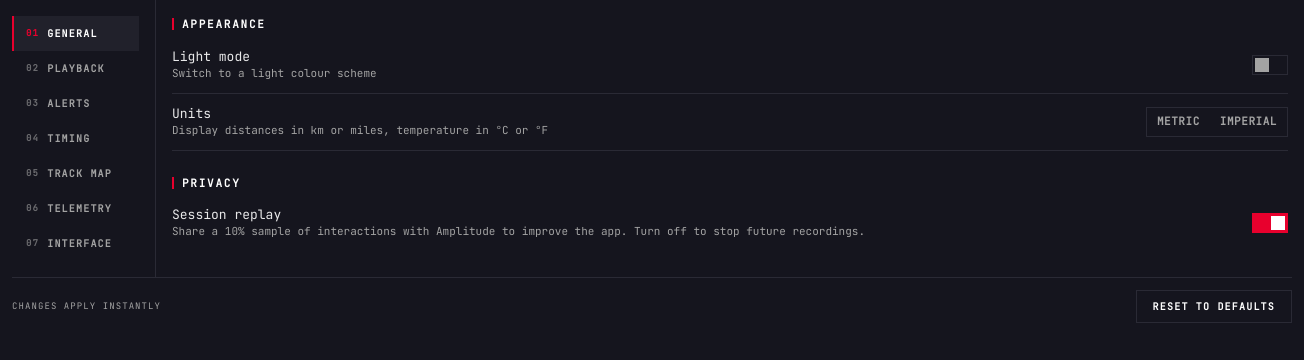
Test case: SettingsControls › keeps telemetry chart settings in their own category
Click the tab "04 Timing" at point(76, 138), box [12,121,139,156]
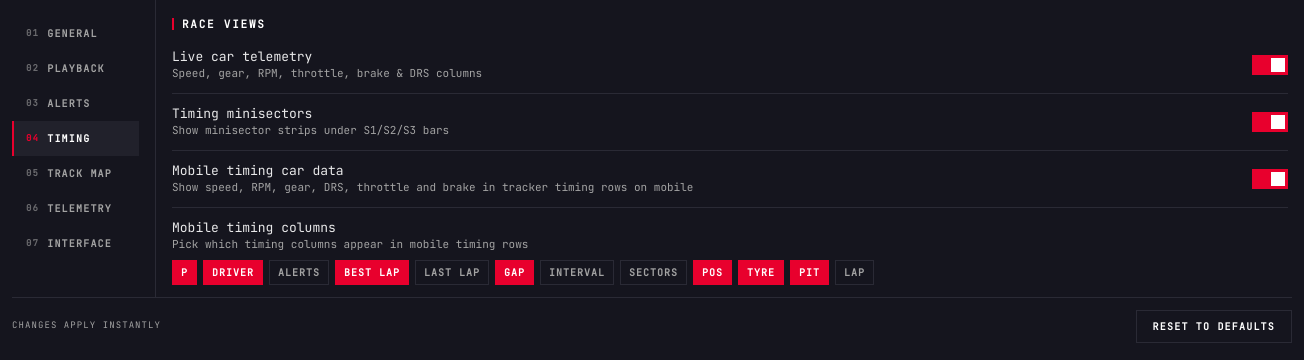
Expected: the text "Telemetry Charts" is not shown
Click the tab "06 Telemetry" at point(76, 208), box [12,191,139,226]
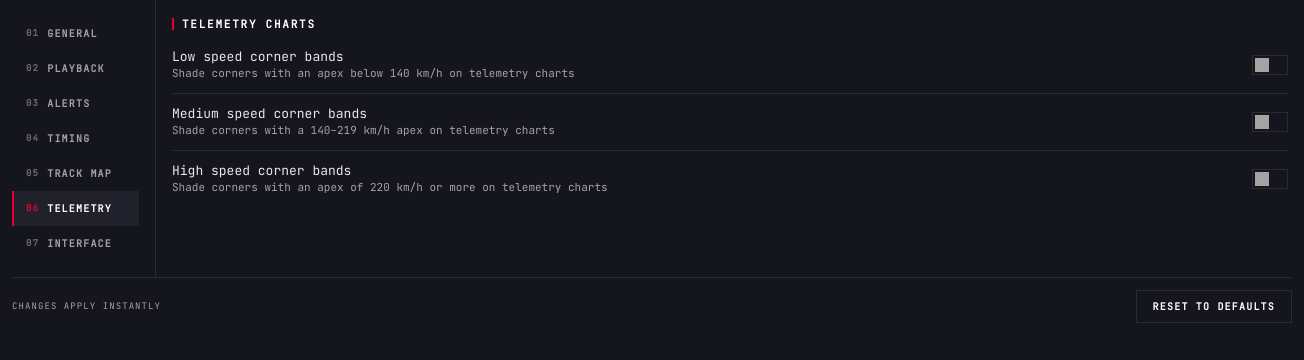
Expected: the text "Low speed corner bands" is shown, [172,48,344,64]
